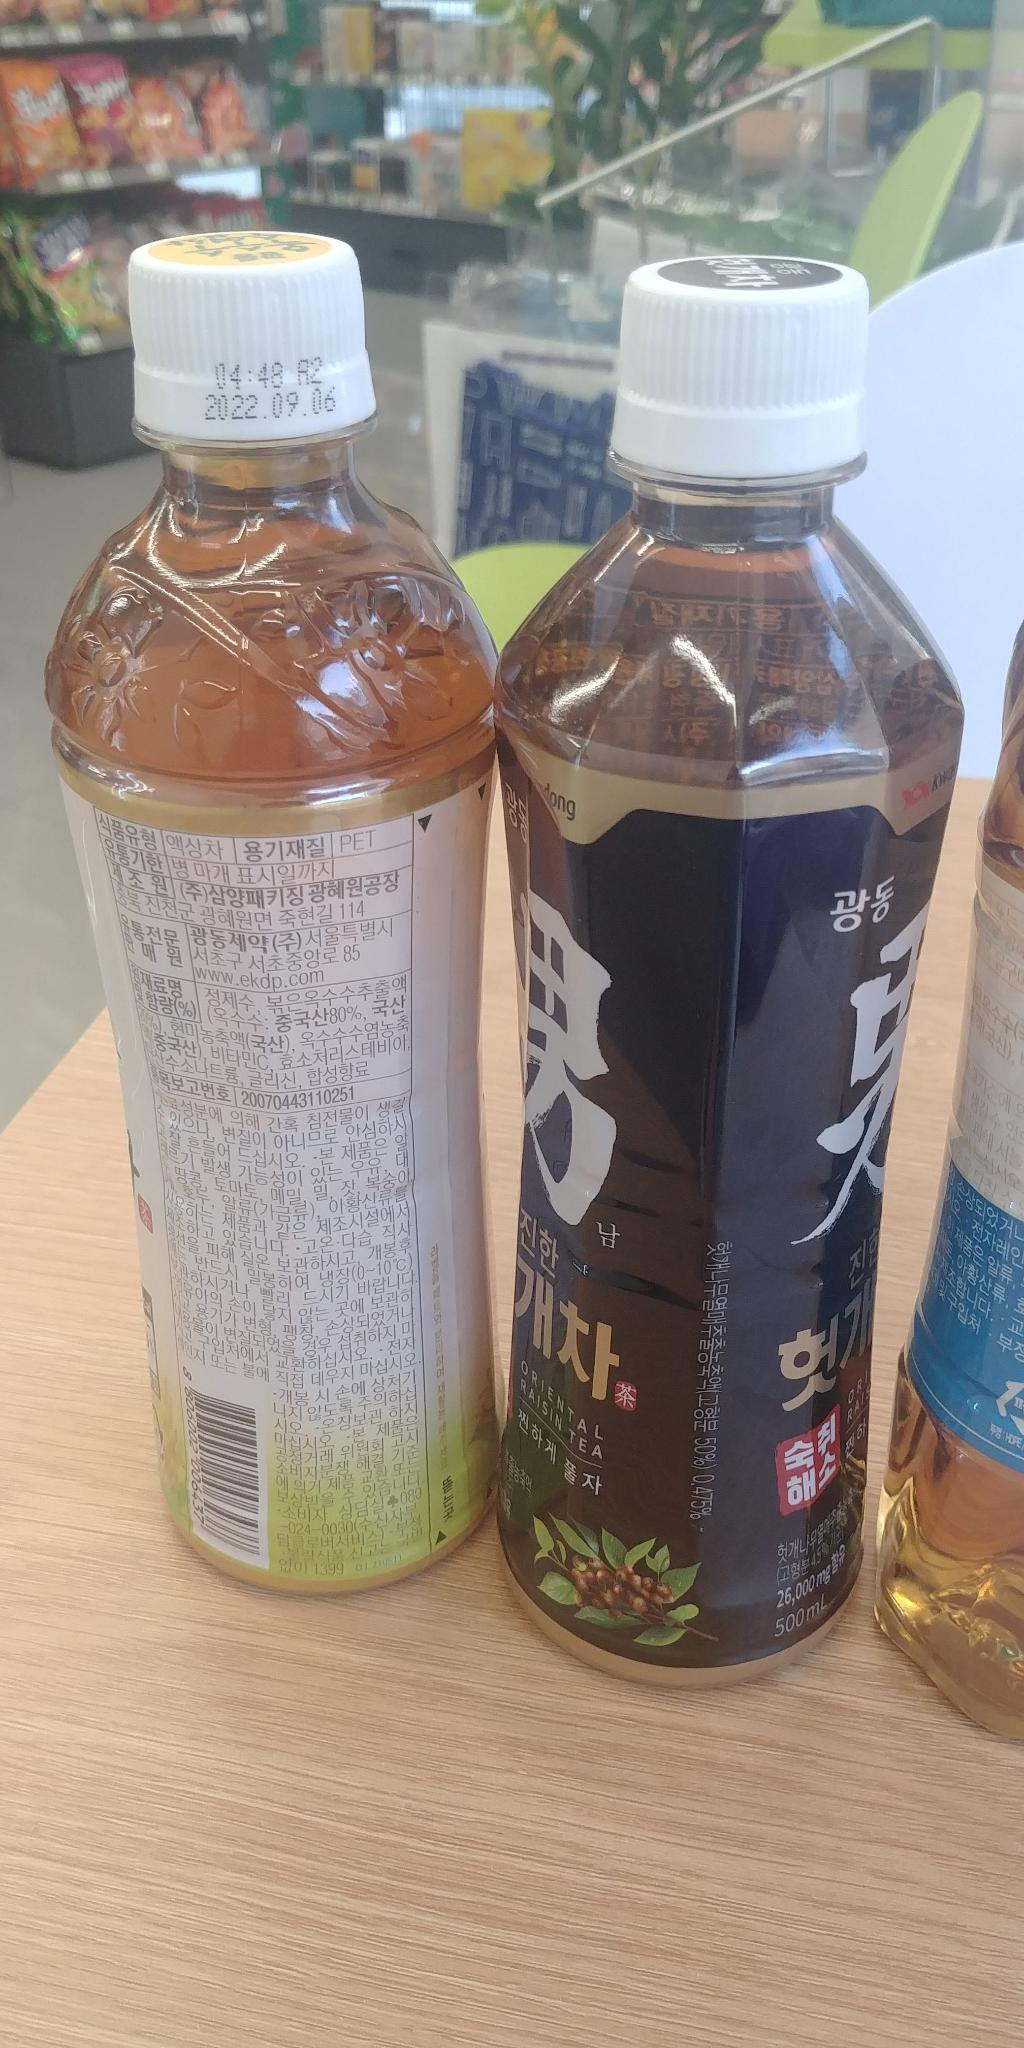heotgaecha: (465, 239, 914, 1718)
oksususuyeomcha: (57, 217, 519, 1600)
